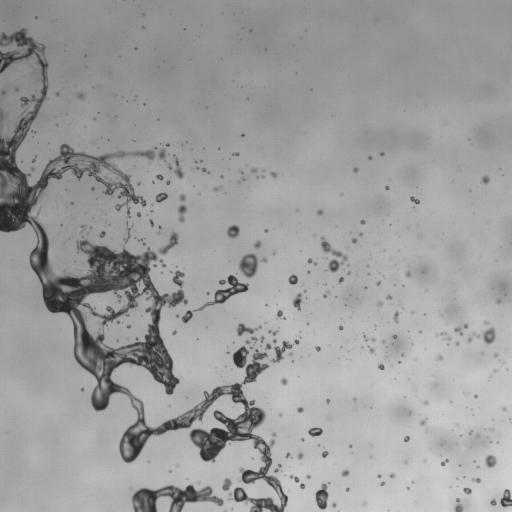droplet: (321, 236, 347, 272), (238, 253, 267, 278), (166, 157, 184, 179), (315, 483, 328, 509), (500, 489, 511, 507), (181, 310, 194, 323), (292, 293, 302, 309), (227, 225, 239, 238), (484, 454, 496, 467), (454, 324, 467, 335), (308, 427, 322, 436), (155, 192, 167, 202), (222, 478, 231, 491), (454, 498, 463, 511), (80, 224, 92, 233), (288, 274, 297, 284), (410, 196, 419, 204), (393, 311, 399, 322), (481, 175, 489, 183), (290, 475, 299, 482), (268, 329, 278, 335), (76, 92, 84, 99), (254, 240, 261, 248), (277, 310, 284, 318), (368, 346, 375, 354), (280, 377, 287, 385), (441, 458, 448, 466), (321, 450, 328, 457), (341, 470, 349, 476), (463, 487, 471, 493), (156, 174, 163, 180), (179, 194, 185, 201), (99, 230, 105, 237), (419, 419, 426, 425), (297, 452, 303, 459), (213, 186, 221, 191), (472, 478, 480, 483), (13, 85, 19, 91), (271, 172, 277, 178), (317, 209, 323, 215), (378, 363, 384, 369), (297, 407, 303, 413), (285, 452, 291, 458), (490, 499, 496, 505), (405, 270, 410, 277), (251, 168, 257, 173), (351, 238, 357, 243), (338, 277, 343, 283), (293, 339, 299, 344), (240, 176, 245, 181), (377, 301, 382, 306), (315, 346, 320, 351), (437, 355, 442, 360), (423, 400, 428, 405), (404, 436, 409, 441), (233, 152, 239, 156), (32, 156, 36, 162), (149, 220, 153, 226), (30, 167, 35, 171), (385, 185, 389, 190), (360, 220, 365, 224), (386, 295, 391, 299), (363, 335, 367, 340), (370, 337, 375, 341), (502, 406, 506, 411), (390, 473, 394, 478), (300, 483, 304, 488), (353, 168, 357, 172), (166, 180, 170, 184), (496, 299, 500, 303), (339, 326, 343, 330), (381, 481, 385, 485), (332, 503, 336, 507), (483, 321, 488, 324), (377, 281, 380, 285), (172, 331, 176, 334), (494, 353, 497, 357), (326, 399, 329, 403), (408, 411, 411, 415), (377, 474, 381, 477), (55, 92, 58, 95), (166, 143, 169, 146), (380, 152, 383, 155), (91, 187, 94, 190), (137, 213, 140, 216), (127, 325, 130, 328), (393, 335, 396, 338), (289, 352, 292, 355), (81, 388, 84, 391), (425, 429, 428, 432), (272, 433, 275, 436), (307, 475, 310, 478), (363, 502, 366, 505), (455, 342, 459, 344), (241, 134, 244, 136), (369, 156, 371, 159), (220, 175, 223, 177), (70, 202, 73, 204), (106, 223, 108, 226), (158, 226, 161, 228), (265, 229, 267, 232), (359, 233, 362, 235), (227, 351, 229, 354), (494, 369, 496, 372), (474, 395, 477, 397), (353, 398, 356, 400), (476, 434, 479, 436), (346, 488, 349, 490), (30, 66, 32, 68), (240, 171, 242, 173), (262, 170, 264, 172), (158, 231, 160, 233), (273, 252, 275, 254), (154, 264, 156, 266), (308, 271, 310, 273), (176, 315, 178, 317), (398, 361, 400, 363), (279, 413, 281, 415), (469, 431, 471, 433)
ligament: (0, 33, 292, 511), (131, 483, 223, 511), (197, 275, 248, 311), (158, 232, 178, 255), (467, 327, 495, 343), (236, 323, 261, 335), (435, 331, 451, 343), (178, 205, 187, 222), (123, 226, 130, 244), (307, 258, 316, 265), (323, 290, 330, 298), (274, 464, 281, 472), (201, 168, 209, 173), (139, 239, 144, 244), (223, 510, 227, 511)
